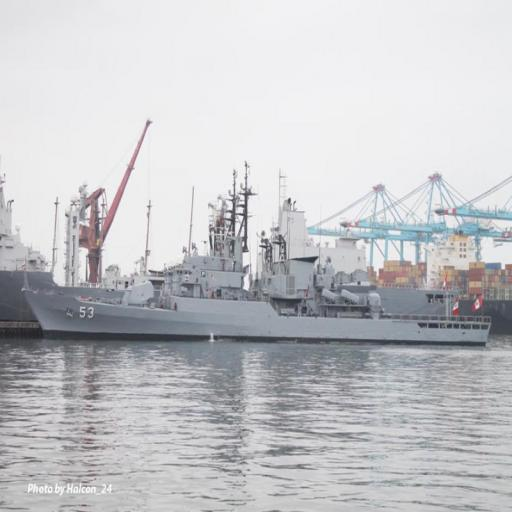Fragata: (20, 182, 493, 346)
